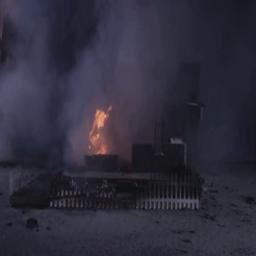fire: (85, 106, 119, 157)
smoke: (23, 0, 238, 102)
